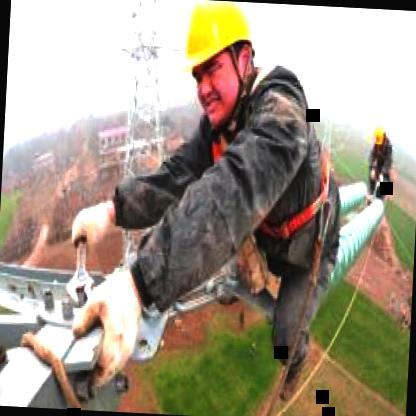helmet: (173, 0, 264, 130), (371, 119, 390, 151)
